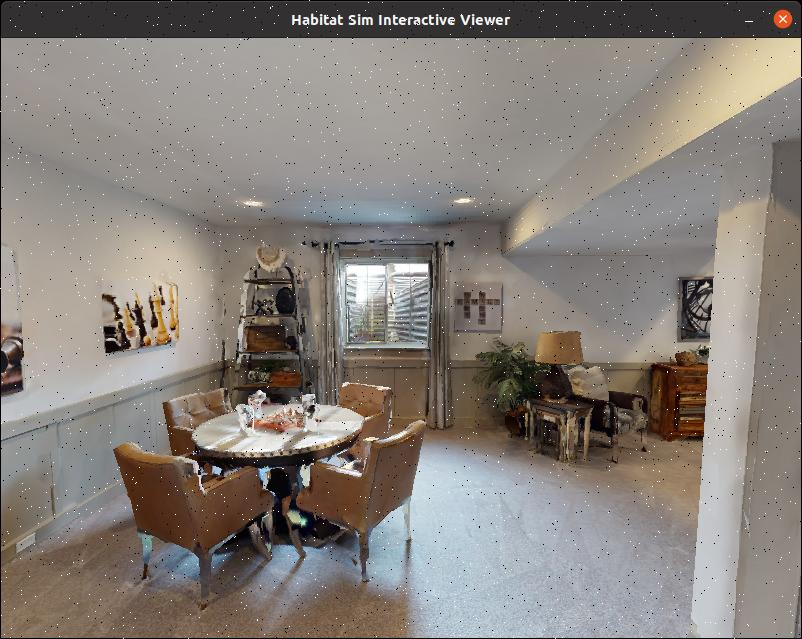chair: (123, 427, 284, 603), (299, 417, 436, 588)
table: (181, 383, 383, 544)
